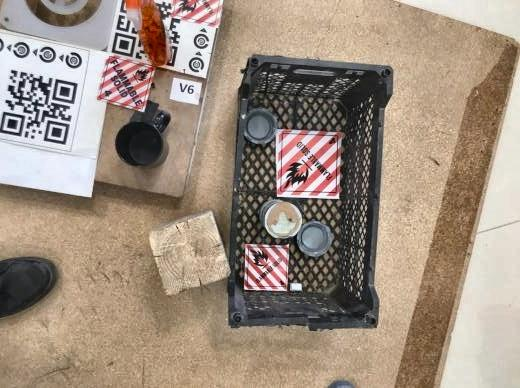flammable-solid: (274, 130, 341, 198), (98, 55, 156, 111), (244, 244, 288, 291), (172, 1, 224, 30)
